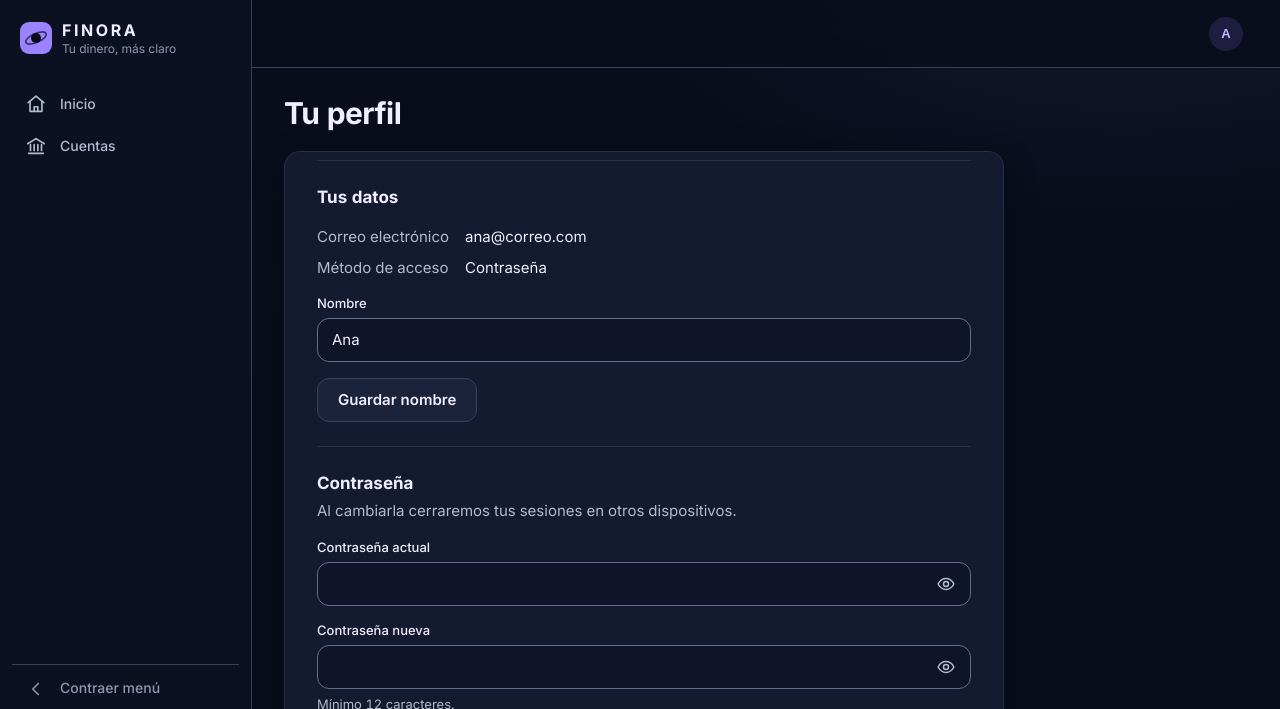
Test: /perfil: datos y contraseña (RF-AUTH-14, 15 y 18) › cambia la contraseña con la actual
Expected: the heading "Tus datos" is shown, [317,186,398,206]
Type "otra" into the password field labelled "Contraseña actual".
click(622, 584); type("otra")  # box [318,563,926,605]
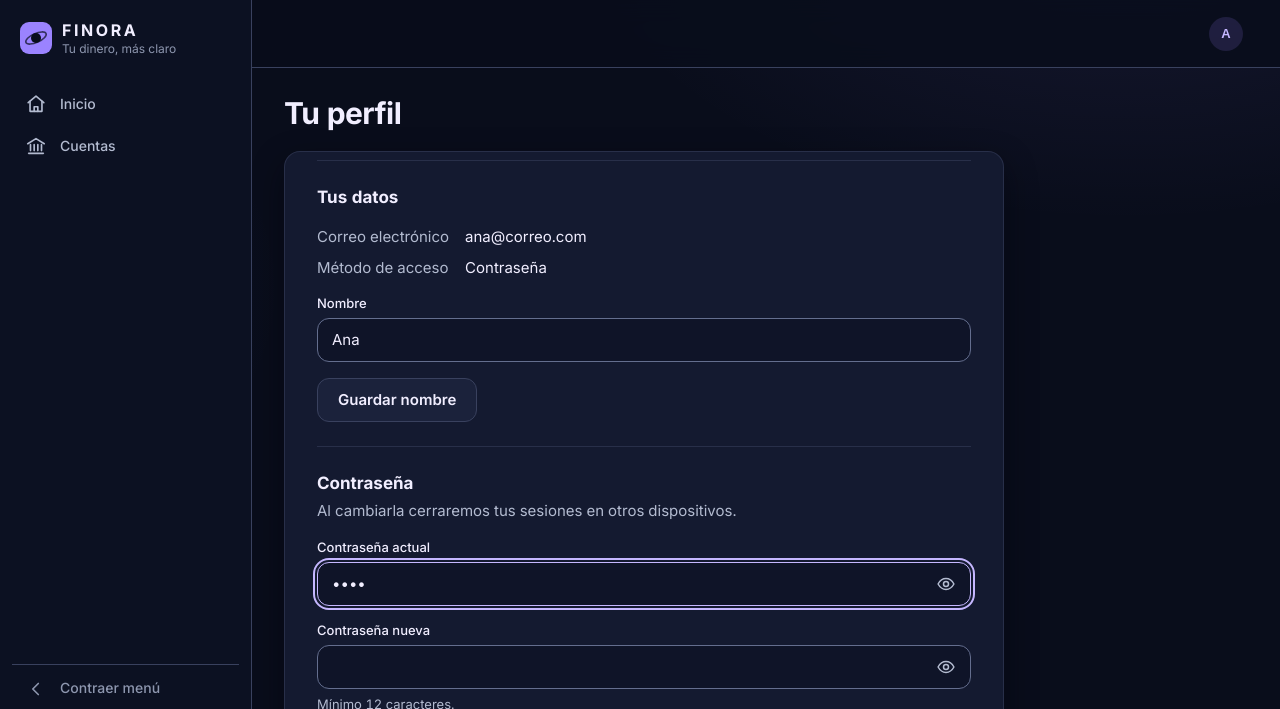
Type "una clave nueva y larga" into the password field labelled "Contraseña nueva".
click(622, 667); type("una clave nueva y larga")  # box [318,646,926,688]
(page scrolled)
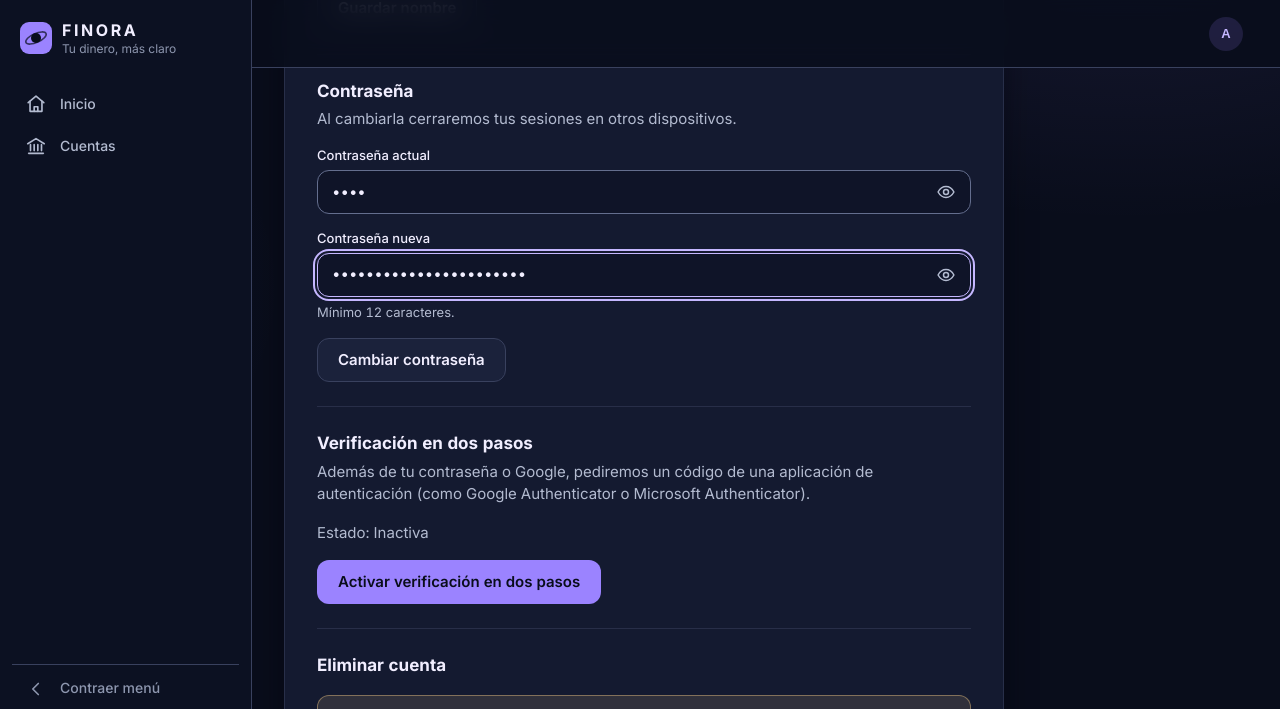
Click the button "Cambiar contraseña".
click(411, 360)  # box [317,338,506,382]
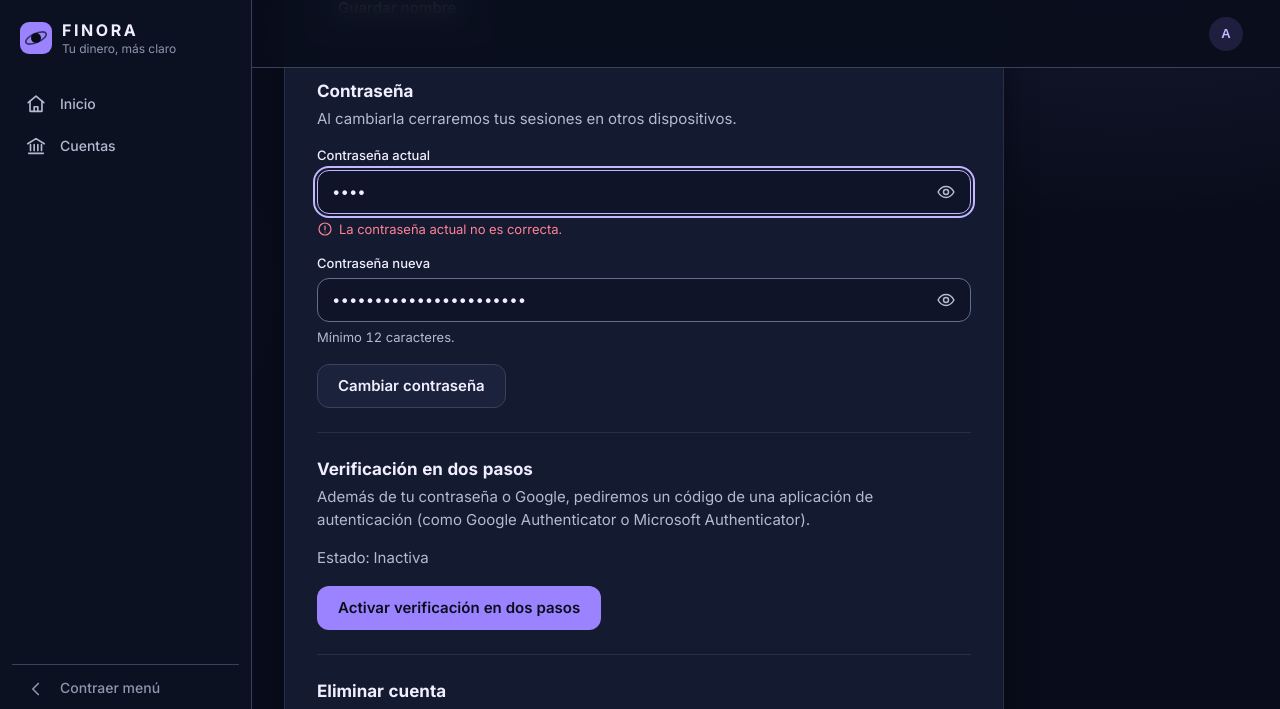
Expected: the text "La contraseña actual no es correcta." is shown, [339,220,562,239]
Type "clave actual correcta" into the password field labelled "Contraseña actual".
click(622, 192); type("clave actual correcta")  # box [318,171,926,213]
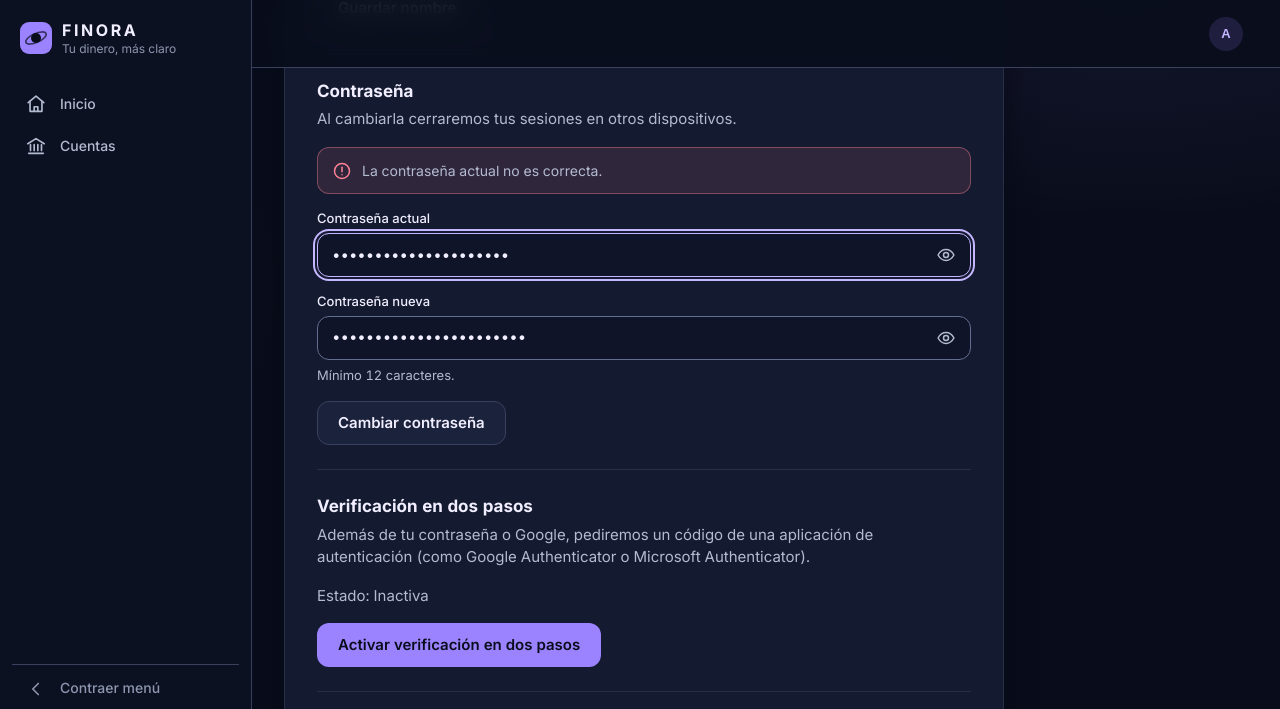
Click the button "Cambiar contraseña".
click(411, 423)  # box [317,401,506,445]
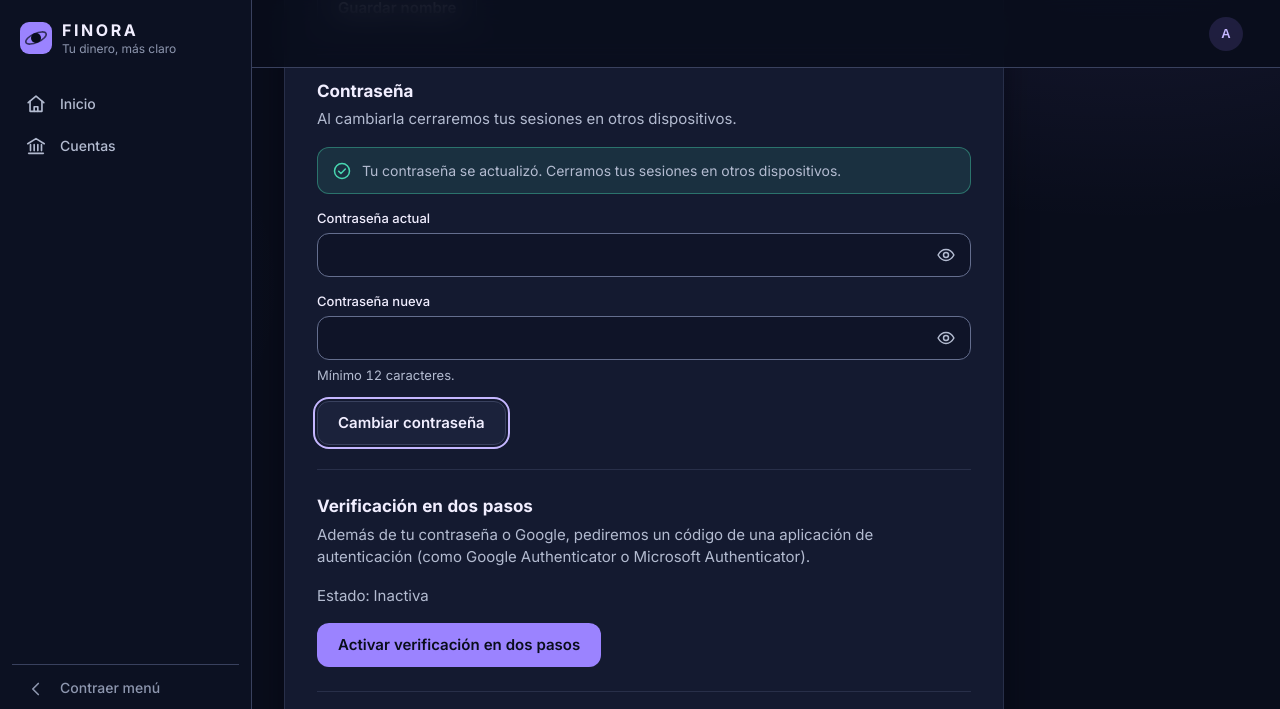
Expected: the text "Tu contraseña se actualizó. Cerramos tus sesiones en otros dispositivos." is shown, [362,160,841,181]
